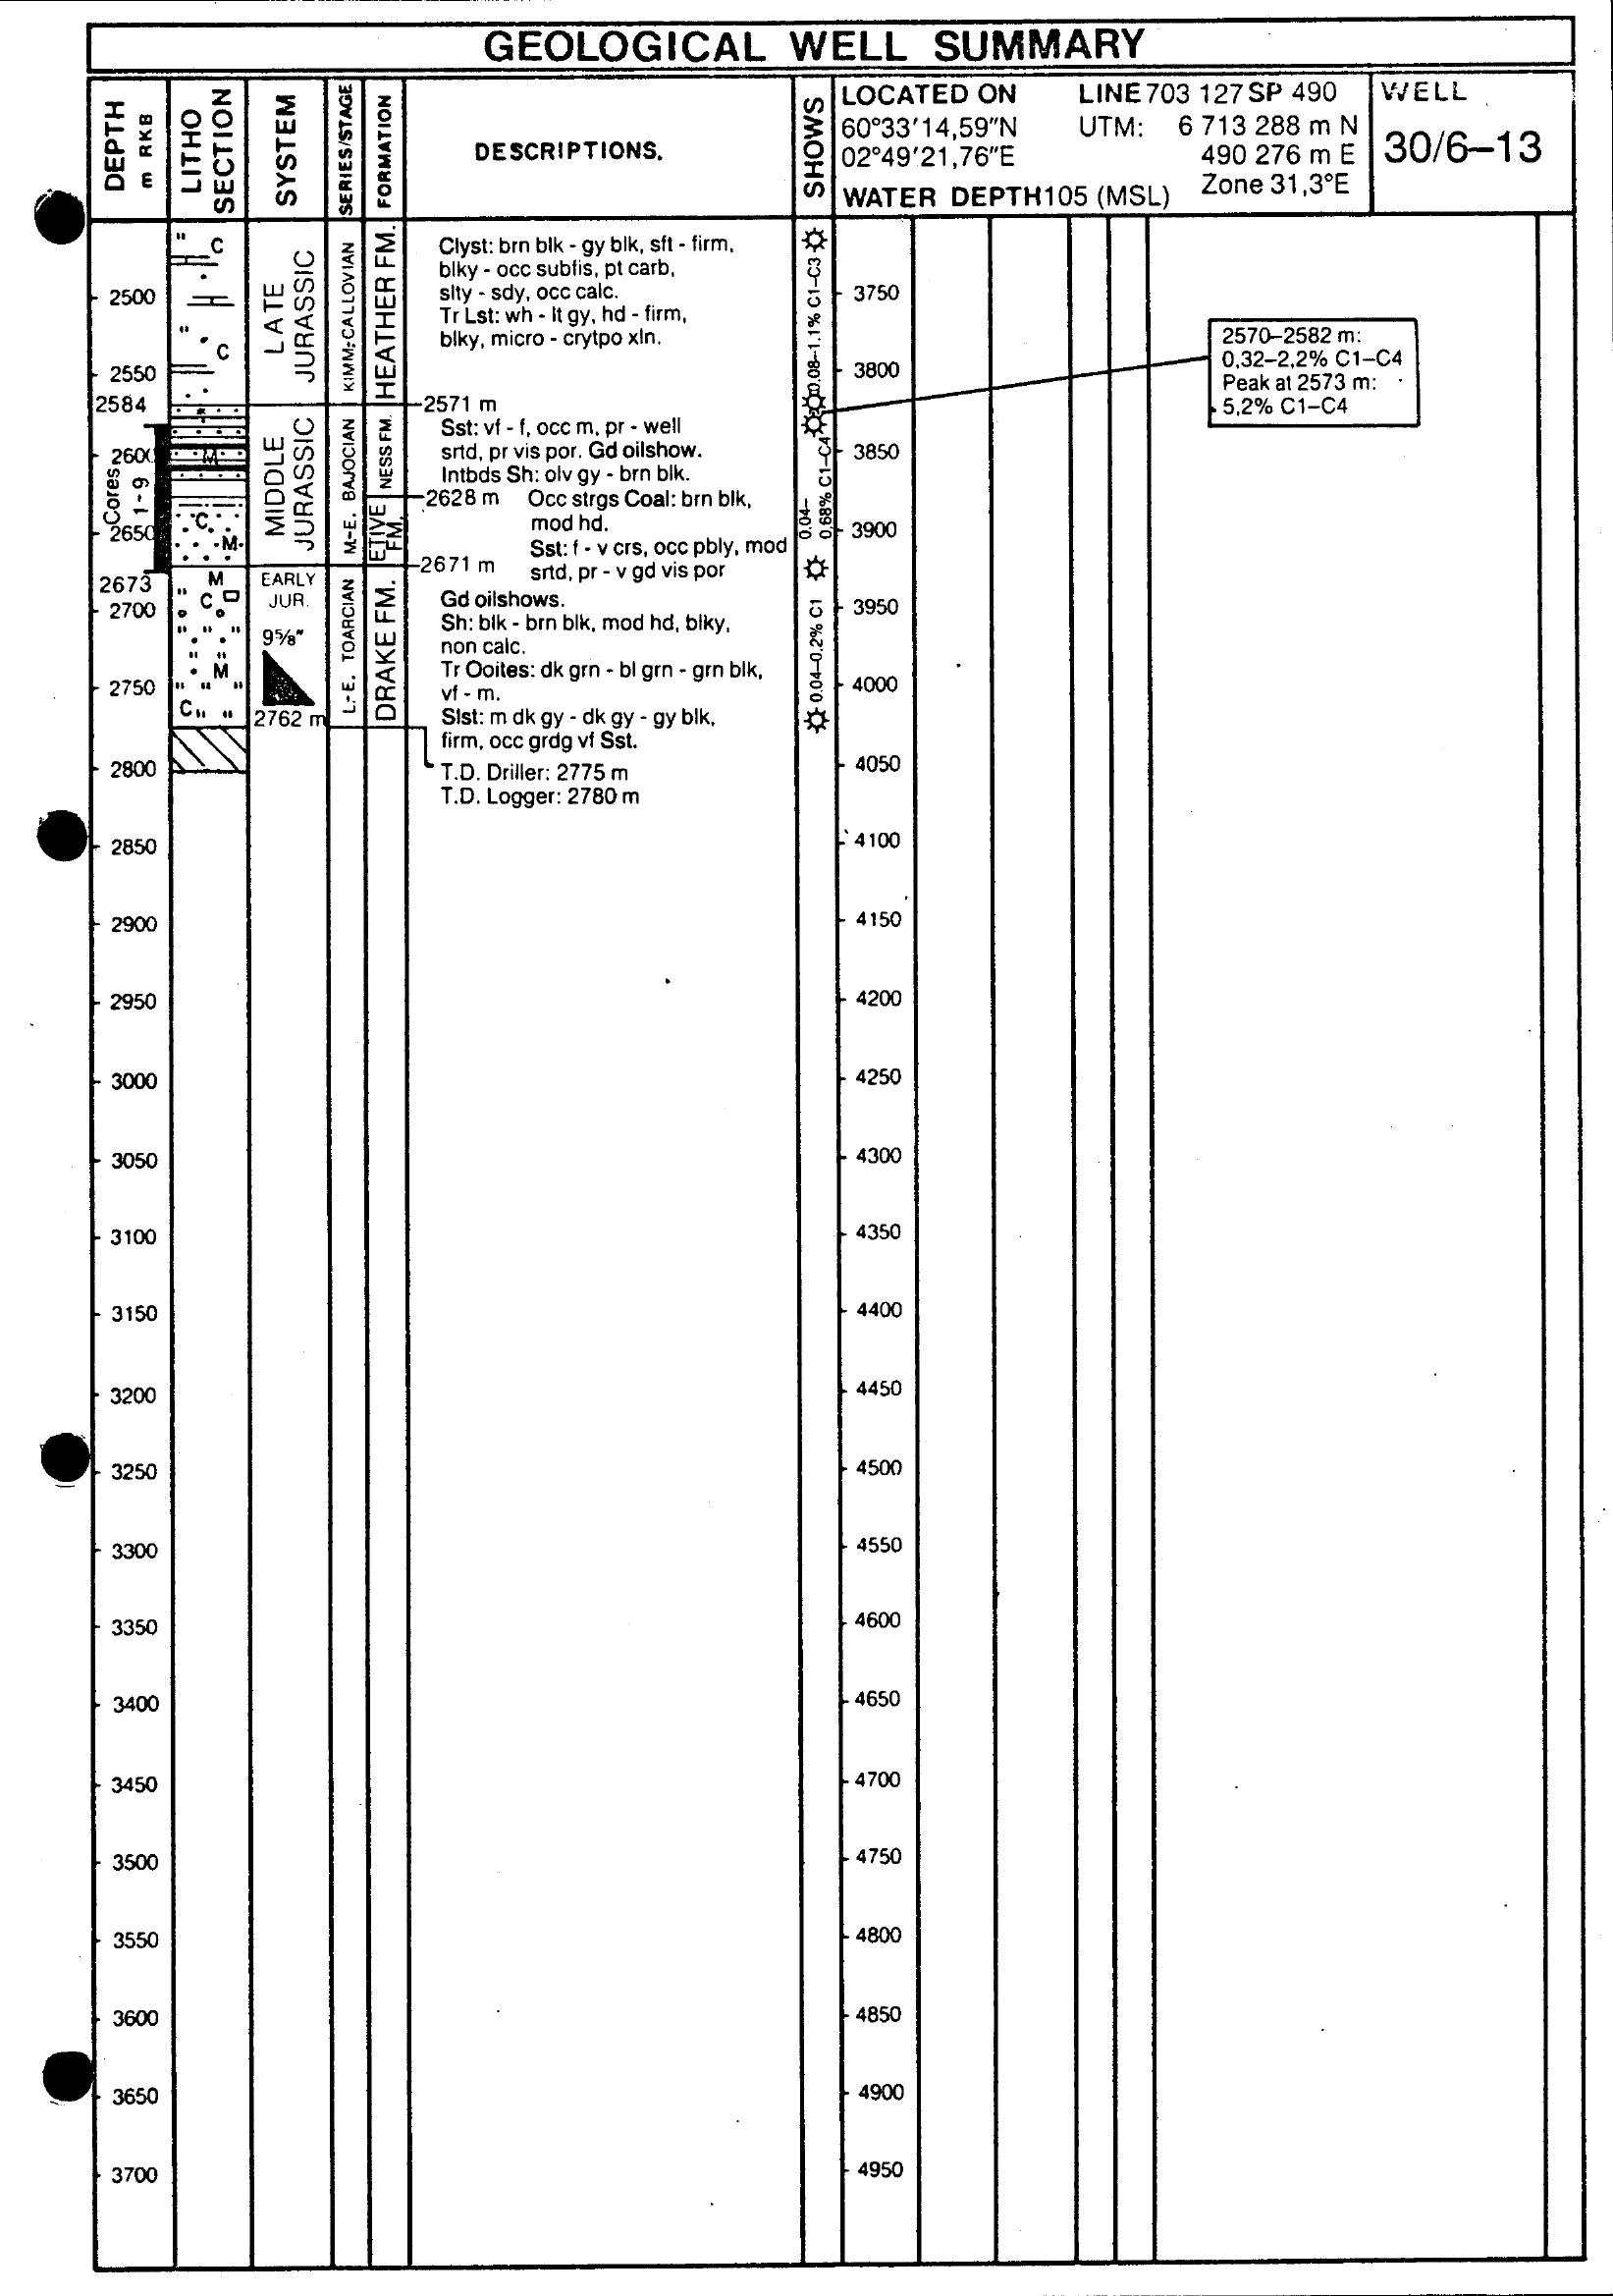graph: (59, 2, 1611, 2277)
